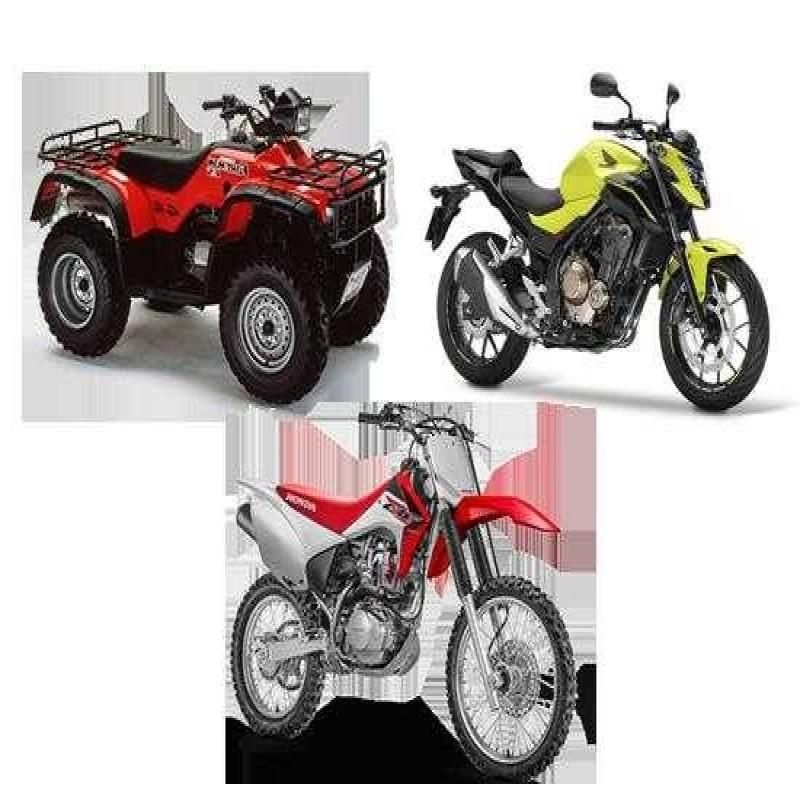bike: (414, 54, 768, 413), (235, 414, 581, 773)
